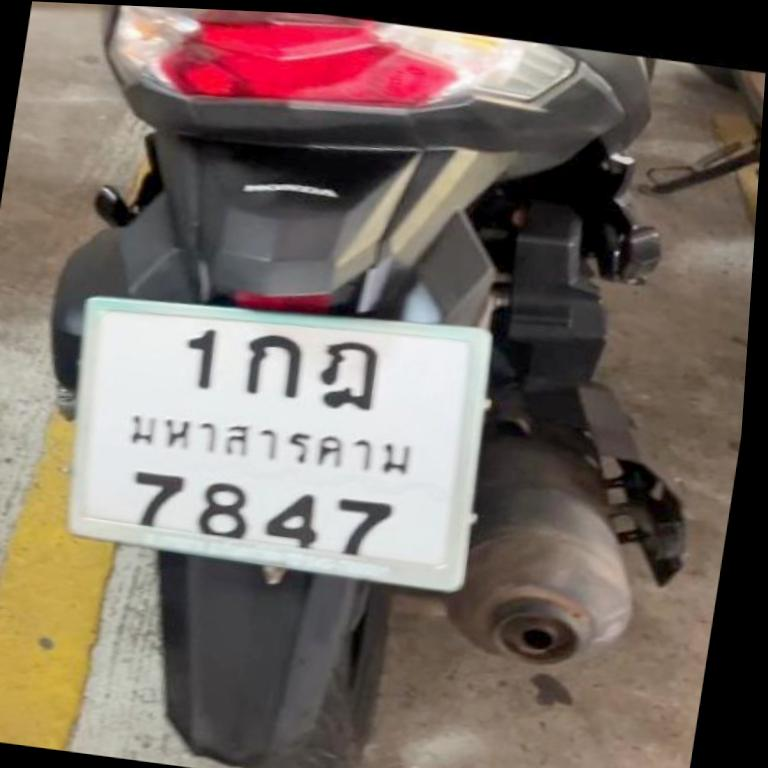license plate: (28, 266, 519, 604)
